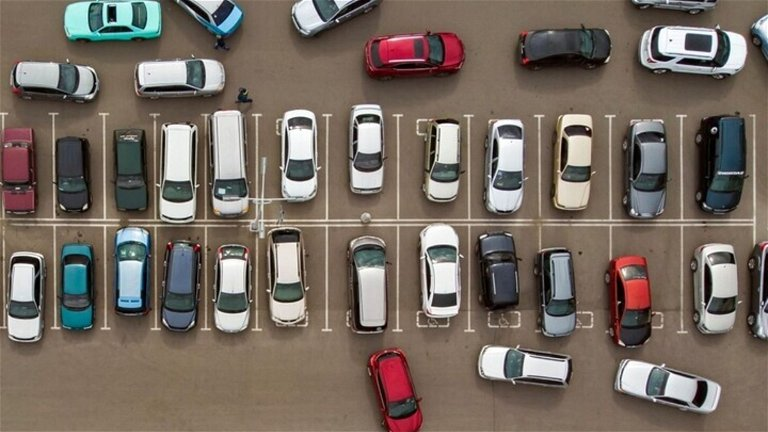car: (616, 353, 723, 416), (639, 22, 745, 84), (358, 347, 433, 431), (474, 339, 582, 395), (260, 224, 312, 336), (695, 114, 751, 217), (601, 251, 658, 350), (620, 118, 675, 216), (340, 233, 391, 337), (550, 113, 602, 212), (481, 116, 532, 215), (412, 222, 463, 321), (530, 245, 581, 344), (206, 108, 252, 217), (156, 122, 203, 226), (364, 33, 468, 79), (688, 242, 738, 337), (7, 58, 102, 107), (4, 247, 47, 353), (470, 231, 525, 313), (157, 239, 203, 337), (513, 28, 616, 69), (106, 125, 150, 219), (278, 108, 321, 204), (62, 2, 164, 42), (345, 103, 388, 197), (210, 245, 254, 336), (112, 226, 152, 326), (0, 125, 41, 218), (130, 57, 229, 94), (58, 241, 95, 336), (174, 0, 242, 51), (54, 134, 94, 219), (425, 118, 461, 208), (288, 2, 379, 35)
